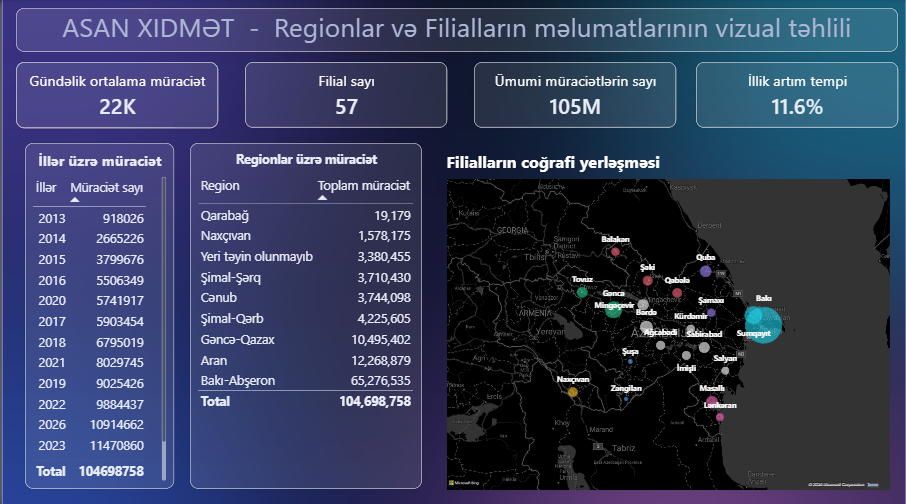

What the dashboard file says about the page in this screenshot:
{"tool":"powerbi","page":{"name":"Page 1","canvas":[1920,1080],"ordinal":0},"visuals":[{"type":"tableEx","title":"İllər üzrə müraciət ","fields":{"Values":["DimDate.Year","Sum(MainStatistics.appeal_count)"]},"box":[48.3,306.7,316.7,735],"z":0},{"type":"cardVisual","fields":{"Data":["MainStatistics.Total Appeals"]},"box":[1003.5,133.9,430,140],"z":1000},{"type":"cardVisual","fields":{"Data":["MainStatistics.Branch Count"]},"box":[516.6,133.9,430,140],"z":2000},{"type":"cardVisual","fields":{"Data":["MainStatistics.Avg Daily Appeals"]},"box":[29.8,133.9,430,141.1],"z":3000},{"type":"tableEx","title":"Regionlar üzrə müraciət","fields":{"Values":["DimBranch.Region","MainStatistics.Total Appeals"]},"box":[400,306.7,493.3,735],"z":5000},{"type":"map","title":"Filialların coğrafi yerləşməsi","fields":{"Category":["DimBranch.City"],"Series":["DimBranch.Region"],"Size":["MainStatistics.Total Appeals"],"X":["Avg(DimBranch.Longitude)"],"Y":["Avg(DimBranch.Latitude)"]},"box":[929.8,307.4,975.1,750.9],"z":6000},{"type":"textbox","box":[30.2,20.2,1874.6,93.2],"z":7000},{"type":"cardVisual","fields":{"Data":["MainStatistics.YoY %"]},"box":[1475.4,133.9,430,140],"z":7001}]}

Visuals, with their boxes in screenshot pixels (x1, y1, x2, y2), scaled from the page's 1920x1080 canvas onto the 906x504 screenshot:
"İllər üzrə müraciət " tableEx: (x1=23, y1=143, x2=172, y2=486)
cardVisual - MainStatistics.Total Appeals: (x1=474, y1=62, x2=676, y2=128)
cardVisual - MainStatistics.Branch Count: (x1=244, y1=62, x2=447, y2=128)
cardVisual - MainStatistics.Avg Daily Appeals: (x1=14, y1=62, x2=217, y2=128)
"Regionlar üzrə müraciət" tableEx: (x1=189, y1=143, x2=422, y2=486)
"Filialların coğrafi yerləşməsi" map: (x1=439, y1=143, x2=899, y2=494)
textbox: (x1=14, y1=9, x2=899, y2=53)
cardVisual - MainStatistics.YoY %: (x1=696, y1=62, x2=899, y2=128)
